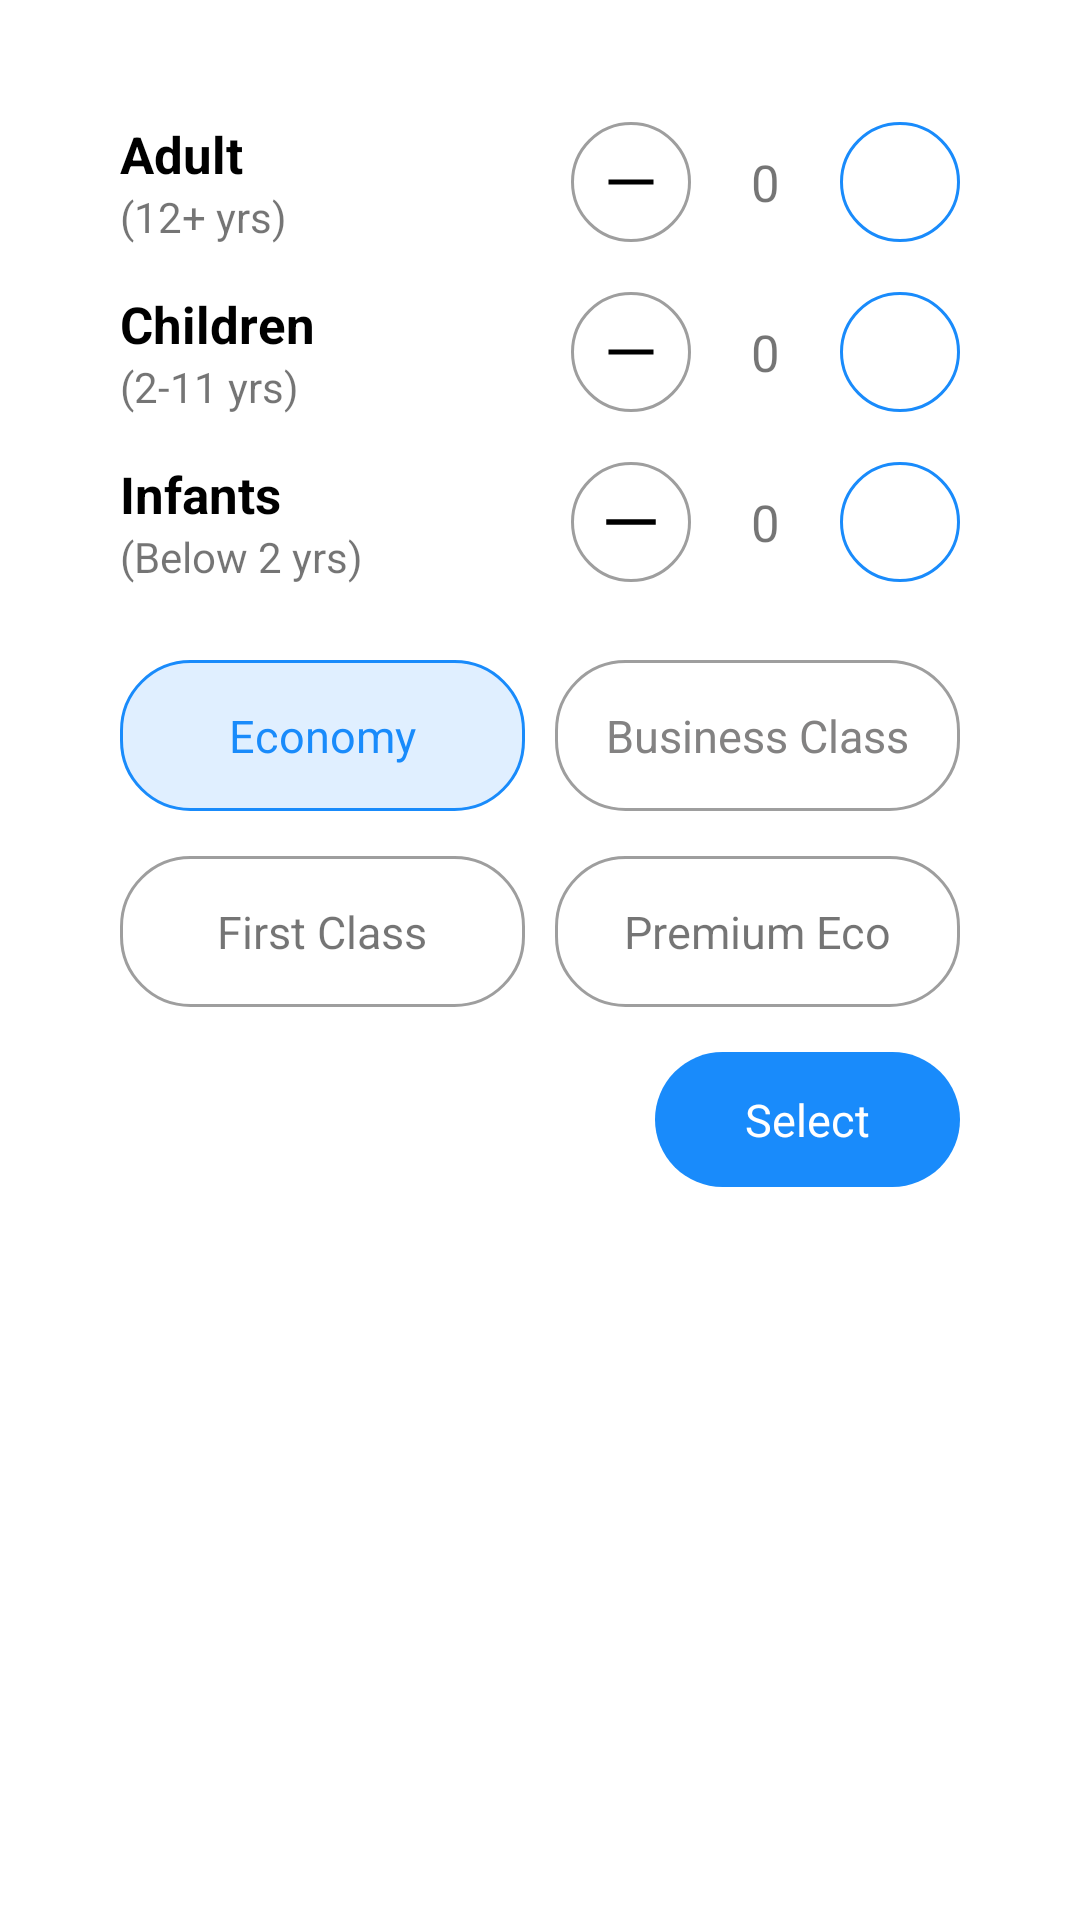

Where to tap for icons on this 1080 x 1920 app screen, as [x,y]:
minus: [631,182], [631,352], [631,522]
